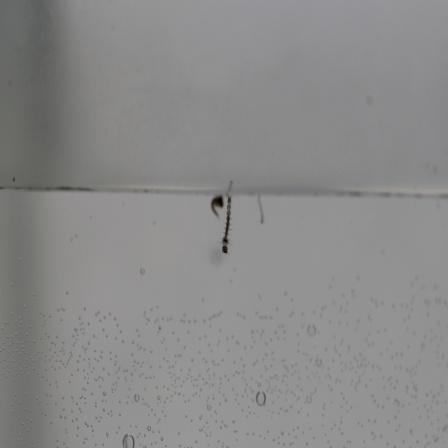Jentik-Nyamuk: (206, 192, 237, 258)
